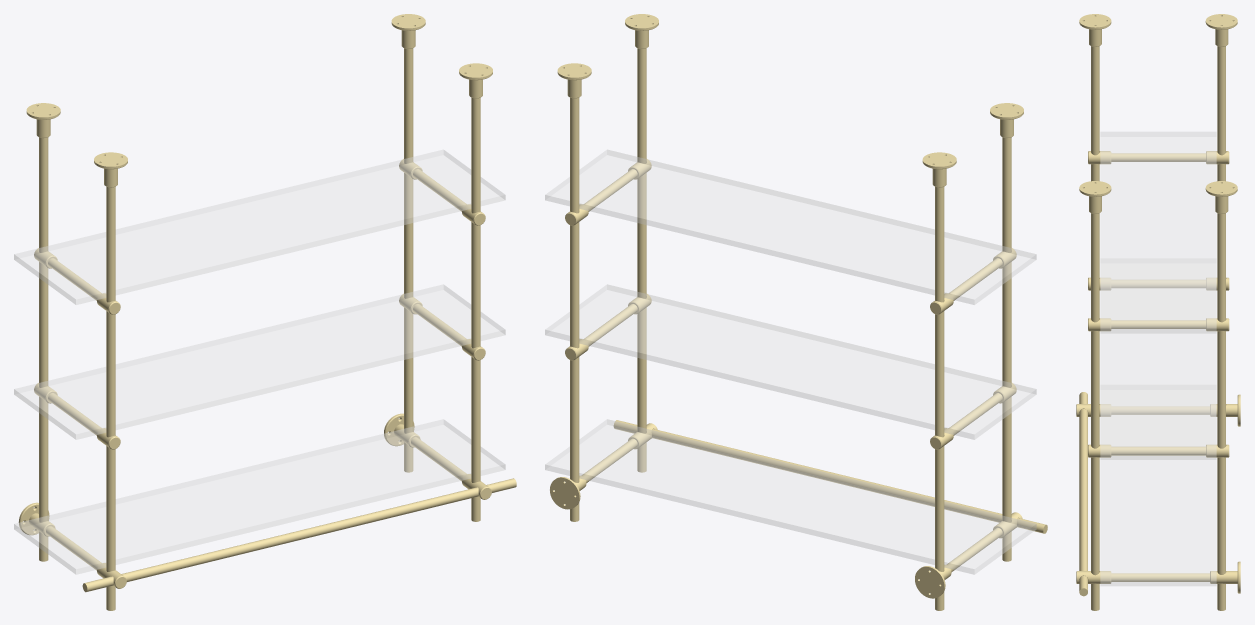
The model's file is wall_ceiling_40w_40h_3s_br.glb.
The picture shows the model from 3 angles, left to right: view 1: azimuth 30°, elevation 25°; view 2: azimuth 150°, elevation 25°; view 3: azimuth 270°, elevation 25°; orthographic projection. The views are drawn at different scales.
Parts seen in each view (by area): view 1: Glass Shelf (4) (×2), Glass Shelf (3), Crossbeam, Post (6), Post (4), Post (7), Post (5); view 2: Glass Shelf (4) (×2), Glass Shelf (3), Crossbeam, Post (6), Post (4), Post (5), Post (7), J Fitting (5), J Fitting (4); view 3: Glass Shelf (4) (×2), Glass Shelf (3), Post (6), Post (7), Rod (12) (×2), Crossbeam, Rod (13) (×2), Post (4), Post (5), Rod (11), Rod (10), A Fitting (1) (4) (×2) (+11 smaller).
Part boxes in pixels (box(x1,y1,x2,y2)): Glass Shelf (4) (×2): box(14, 149, 505, 439); Glass Shelf (3): box(14, 419, 505, 574); Crossbeam: box(82, 478, 516, 592); Post (6): box(471, 97, 480, 521); Post (4): box(106, 186, 115, 610); Post (7): box(404, 48, 413, 472); Post (5): box(39, 137, 48, 561); Glass Shelf (4) (×2): box(545, 149, 1036, 439); Glass Shelf (3): box(545, 419, 1036, 574); Crossbeam: box(613, 420, 1047, 533); Post (6): box(637, 48, 646, 472); Post (4): box(1002, 137, 1011, 561); Post (5): box(935, 186, 944, 610); Post (7): box(570, 97, 579, 521); J Fitting (5): box(550, 477, 580, 509); J Fitting (4): box(915, 566, 945, 598); Glass Shelf (4) (×2): box(1100, 132, 1216, 459); Glass Shelf (3): box(1100, 385, 1216, 585); Post (6): box(1091, 213, 1099, 610); Post (7): box(1217, 213, 1225, 610); Rod (12) (×2): box(1111, 320, 1205, 455); Crossbeam: box(1079, 392, 1087, 596); Rod (13) (×2): box(1111, 153, 1205, 287); Post (4): box(1091, 46, 1099, 181); Post (5): box(1217, 46, 1225, 181); Rod (11): box(1111, 573, 1209, 581); Rod (10): box(1111, 406, 1209, 414); A Fitting (1) (4) (×2): box(1206, 318, 1229, 457).
Bounding box in the file's own units: 1.02 × 1.02 × 0.3591.
